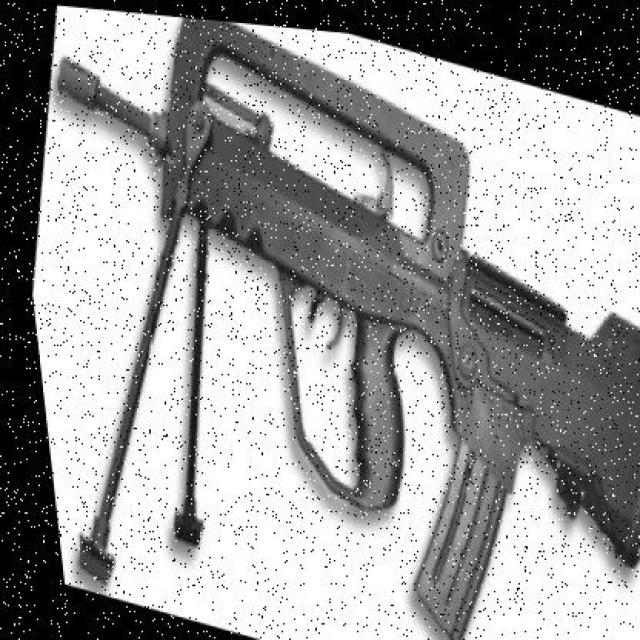weapon: (51, 11, 638, 638)
